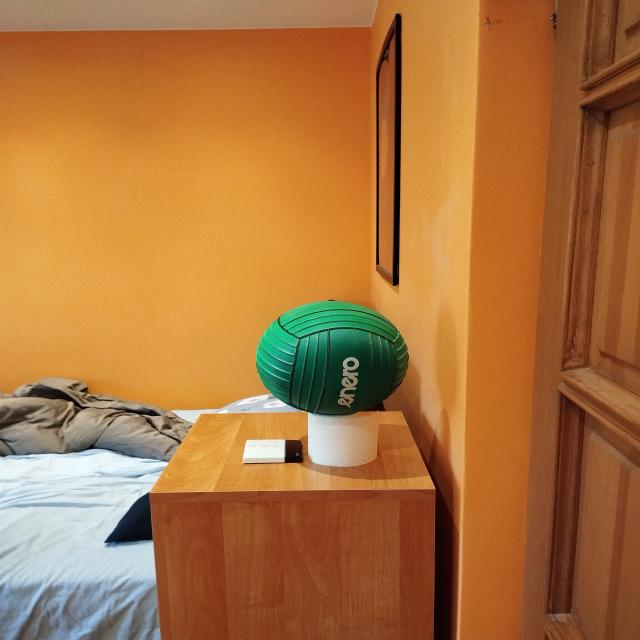zielona: (255, 300, 409, 415)
